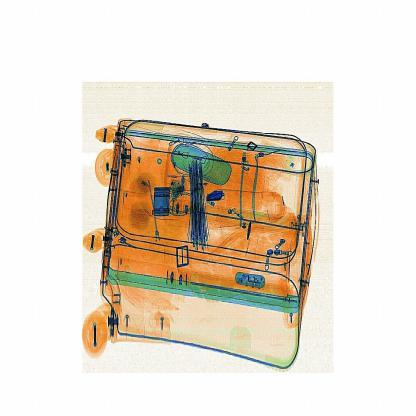knife: (204, 183, 234, 209)
